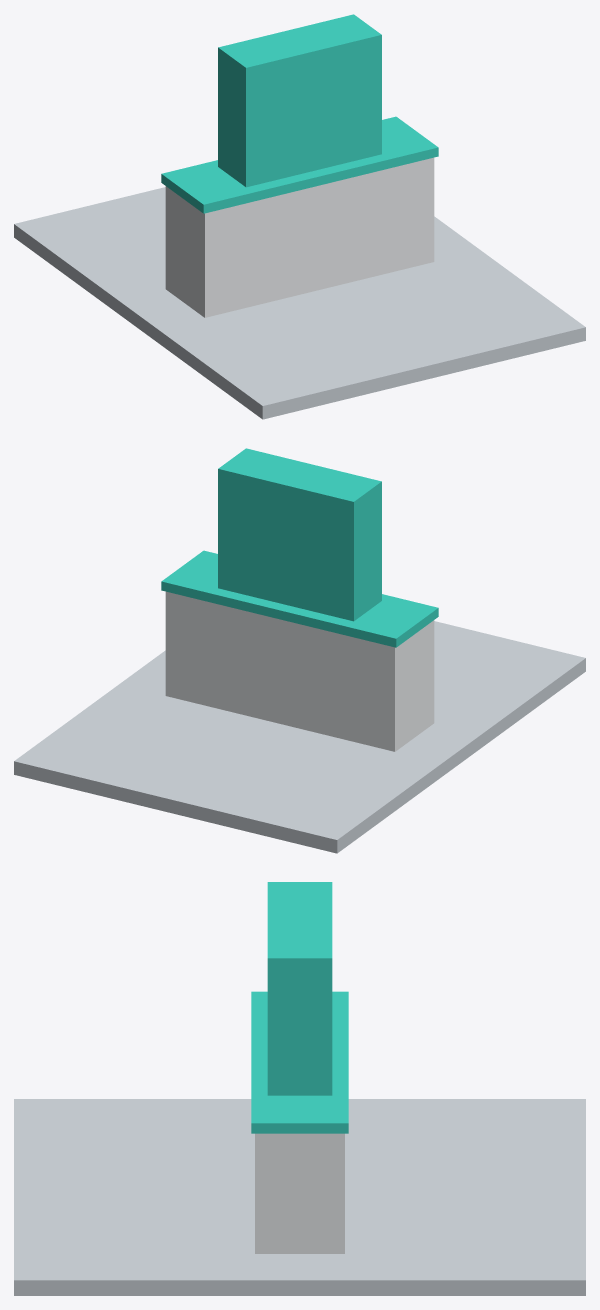
The picture shows the model from 3 angles, top to bottom: view 1: azimuth 30°, elevation 25°; view 2: azimuth 150°, elevation 25°; view 3: azimuth 270°, elevation 25°; orthographic projection. The views are drawn at different scales.
Parts seen in each view (by area): view 1: Exhibition Booth Concept; view 2: Exhibition Booth Concept; view 3: Exhibition Booth Concept.
Boxes of the visible parts, x1,y1,x2,y2 form: Exhibition Booth Concept: [14, 14, 585, 419]; Exhibition Booth Concept: [14, 448, 585, 853]; Exhibition Booth Concept: [14, 882, 585, 1295].
Bounding box in the file's own units: 3 × 2.2 × 4.
